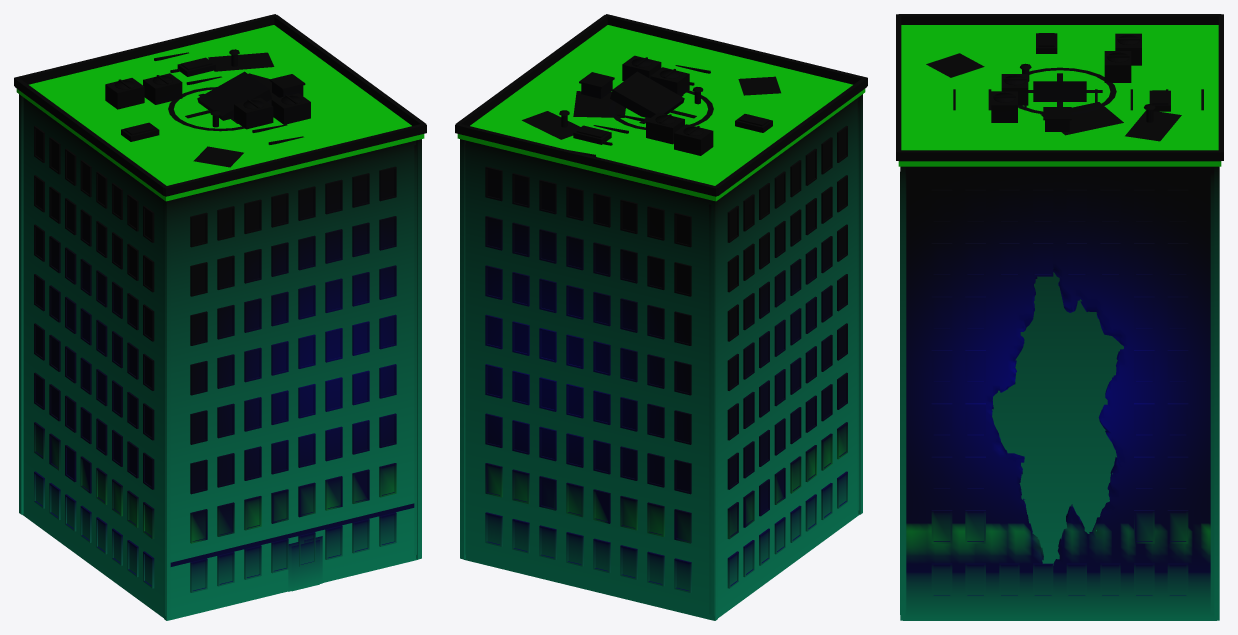
File: city8storya_damaged.glb
The picture shows the model from 3 angles, left to right: view 1: azimuth 30°, elevation 25°; view 2: azimuth 150°, elevation 25°; view 3: azimuth 270°, elevation 25°; orthographic projection. The views are drawn at different scales.
Parts seen in each view (by area): view 1: lod0; view 2: lod0; view 3: lod0.
Part boxes in pixels (x1=…): lod0: x1=14, y1=14, x2=426, y2=620; lod0: x1=455, y1=14, x2=867, y2=620; lod0: x1=896, y1=14, x2=1223, y2=620.
Size of what is drawn, in the model's own units: 18.5 by 30.15 by 18.5.
